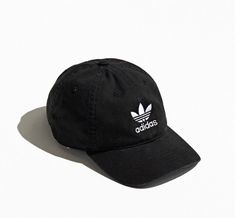adidas Originale: (126, 98, 163, 137)
